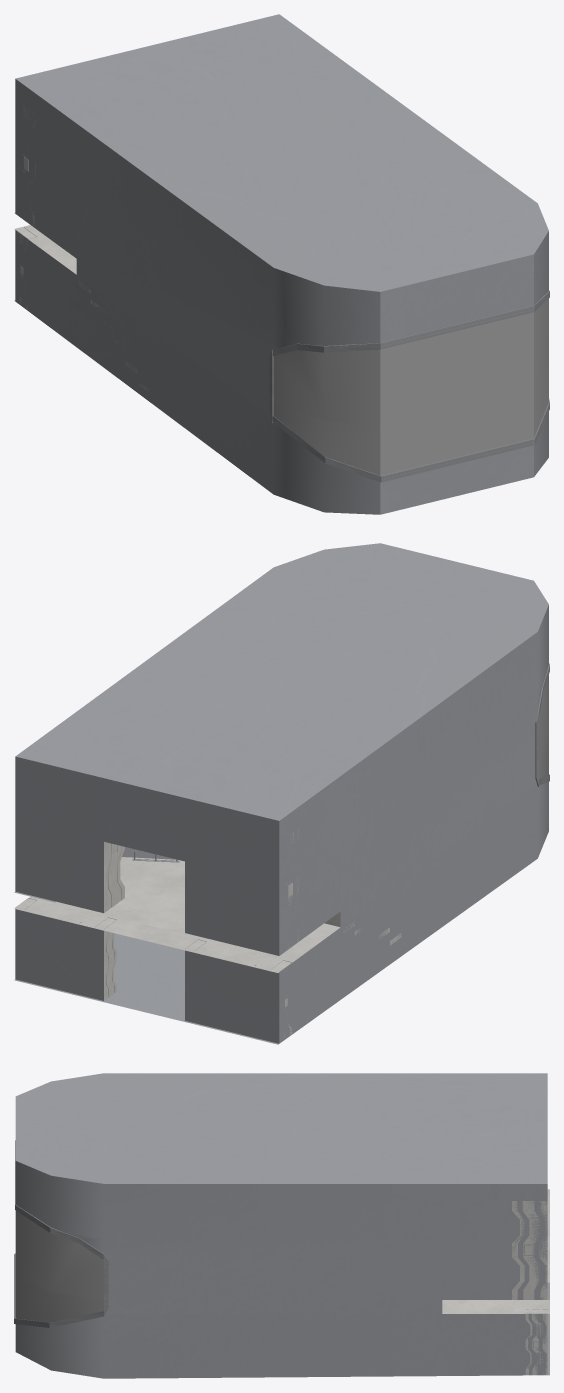
The model's file is heroRoom.fbx.
The picture shows the model from 3 angles, top to bottom: view 1: azimuth 30°, elevation 25°; view 2: azimuth 150°, elevation 25°; view 3: azimuth 270°, elevation 25°; orthographic projection. The views are drawn at different scales.
Visible parts, largest first — view 1: heroArea, window, mainWindowFrame; view 2: heroArea, window; view 3: heroArea, window, mainWindowFrame.
Boxes of the visible parts, box(x1,y1,x2,y2) form: heroArea: box(14, 14, 548, 514); window: box(273, 299, 548, 475); mainWindowFrame: box(269, 290, 549, 482); heroArea: box(14, 543, 548, 1044); window: box(539, 675, 548, 779); heroArea: box(15, 1073, 549, 1378); window: box(15, 1211, 103, 1322); mainWindowFrame: box(14, 1140, 108, 1327).
Bounding box in the file's own units: 13.17 × 10.71 × 26.7.
